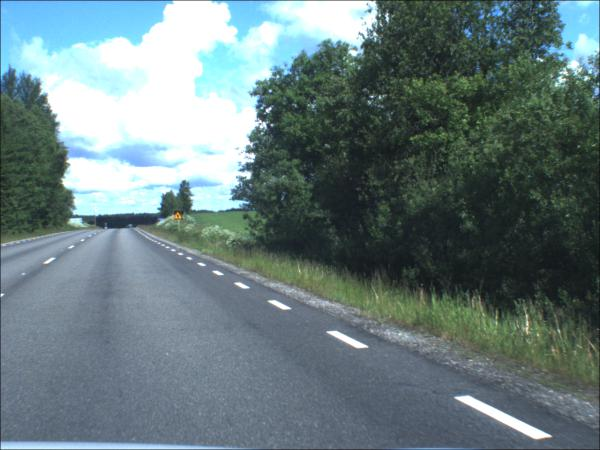WARNING: (175, 212, 185, 222)
